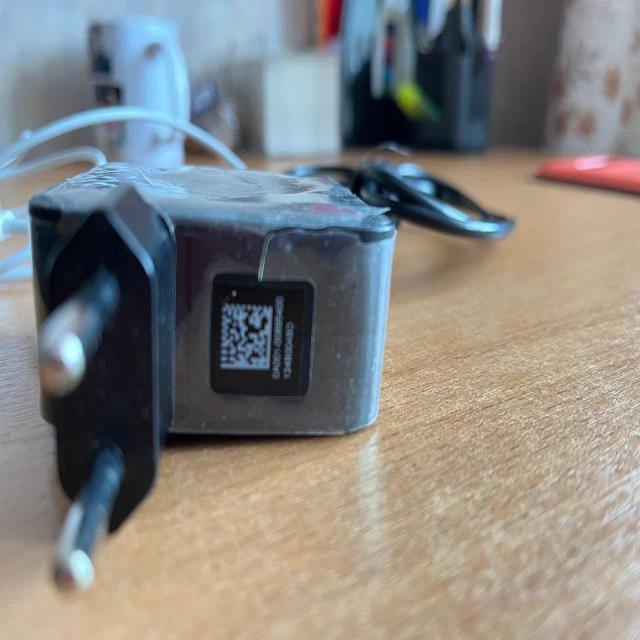datamatrix: (221, 303, 275, 373)
